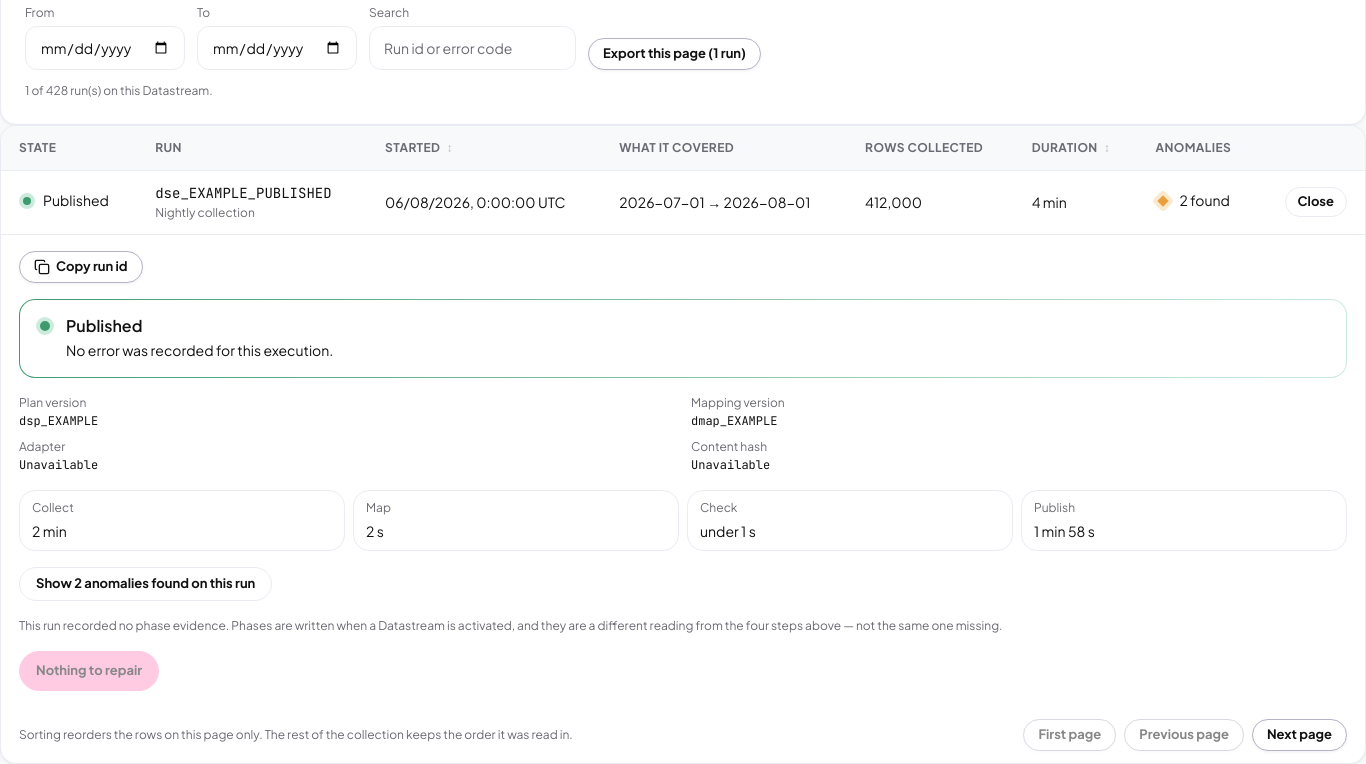
Test: filtering and the strip › says how many runs match, and offers a way past the cap
The width and height of the screenshot is (1366, 764).
(page scrolled)
expect the text with test id "runs-count" shows "1 of 428 run(s)": met, box [25,83,213,98]
expect the button "Previous page" is disabled: met, box [1124,719,1244,751]
Click the button "Next page" at (1299, 735), box [1252,719,1347,751]
(page scrolled)
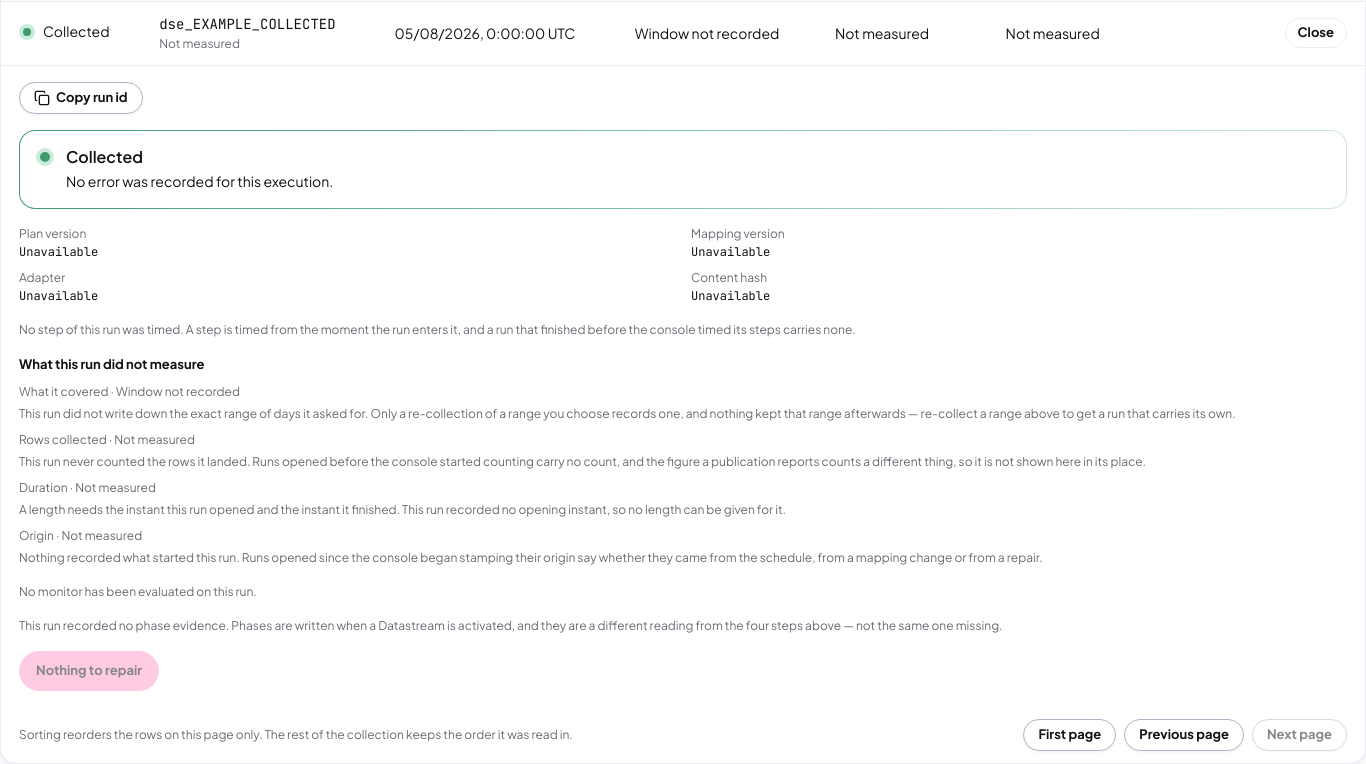
expect the button "Previous page" is enabled: met, box [1124,719,1244,751]
